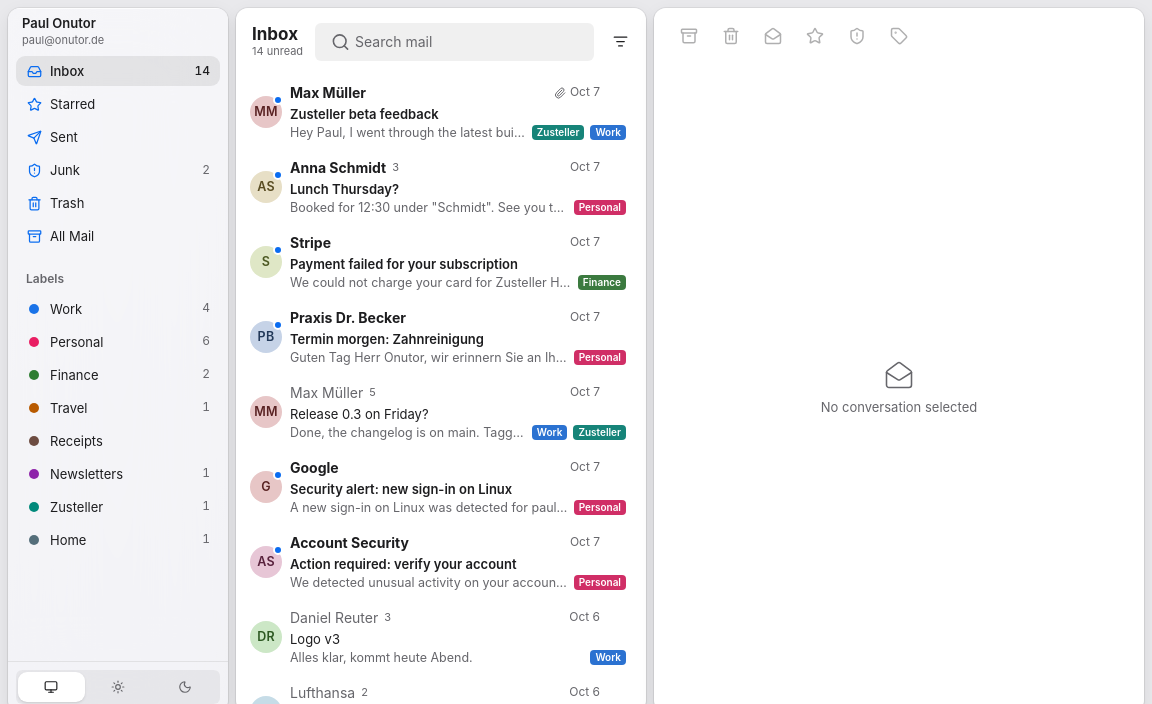
Test: selection edge cases › archiving the last remaining thread shows the empty state, no crash
Type "zahnreinigung" into the search field at (455, 42), box [315,22,594,60]
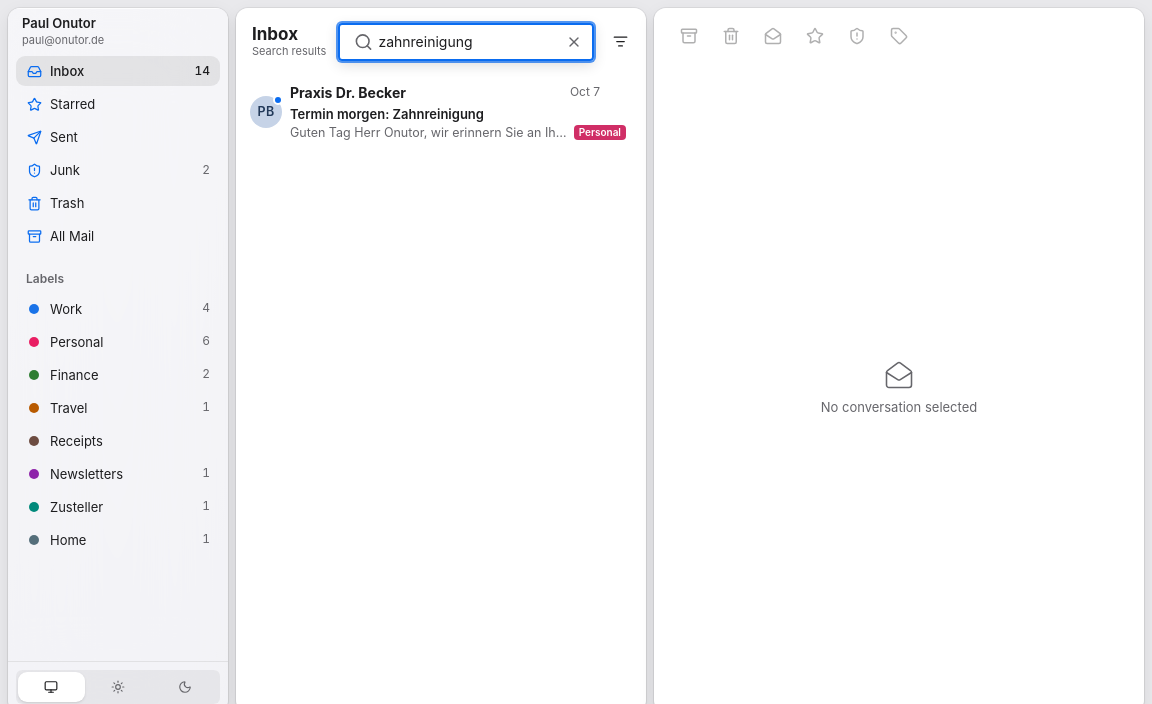
Result: the number of options is 1
Click the option at (441, 112), box [244,75,638,149]
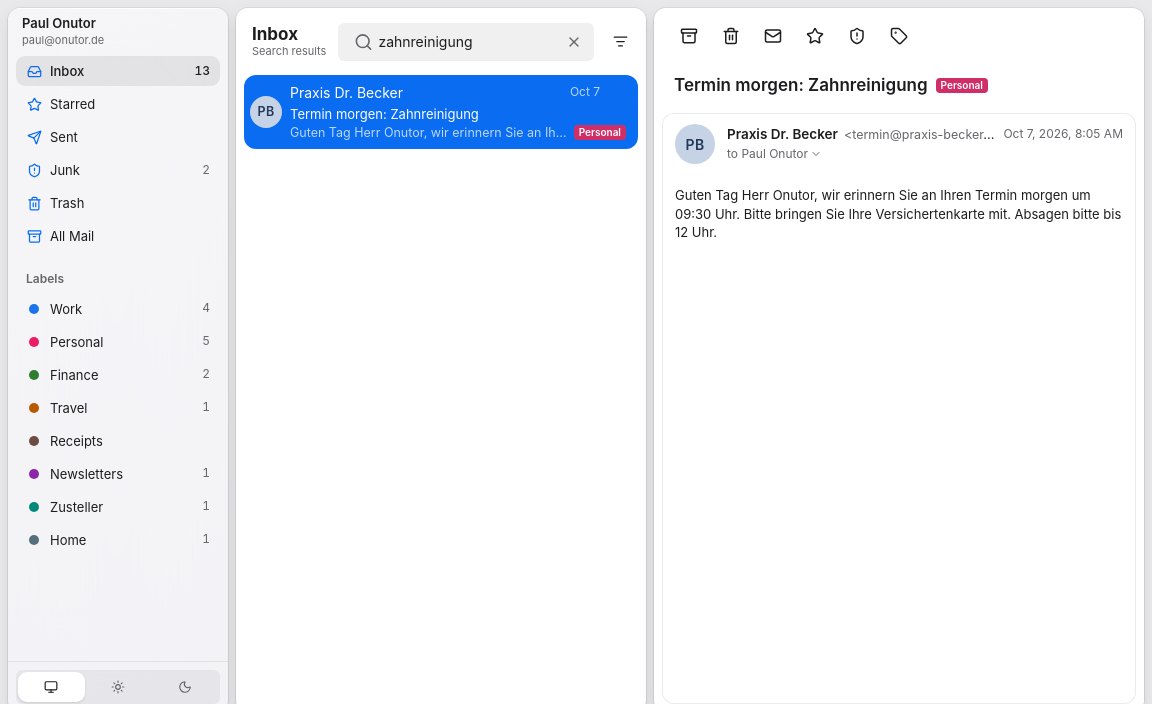
Click the button named "Archive" at (689, 36), box [670,16,708,54]
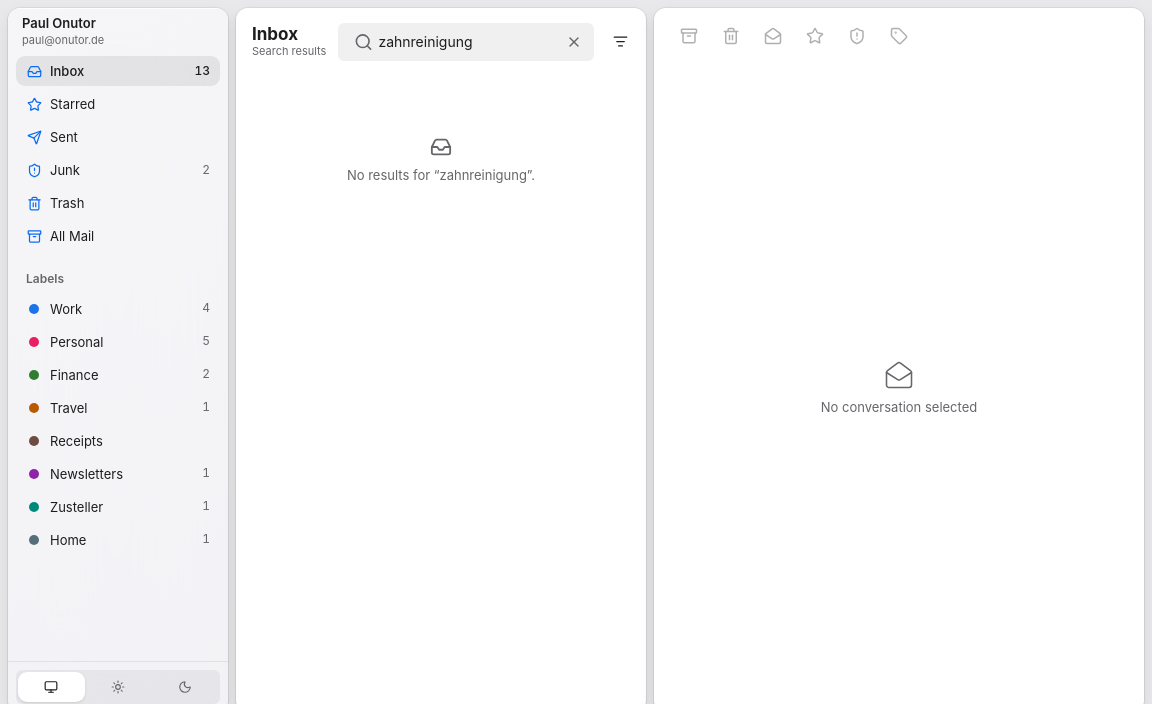
Result: no options are shown
Result: the text "No results for “zahnreinigung”." is shown at [347,166,535,184]
